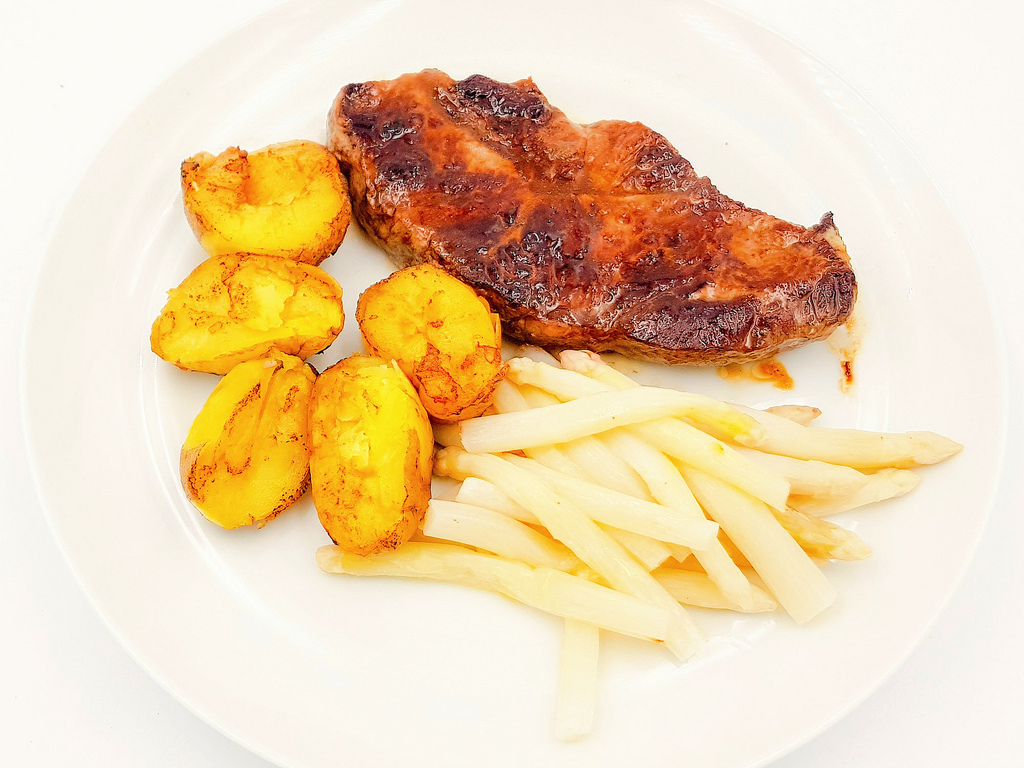boiled potatoes: (356, 259, 511, 422), (183, 347, 319, 532), (166, 139, 356, 266), (310, 355, 431, 554), (137, 255, 348, 368)
